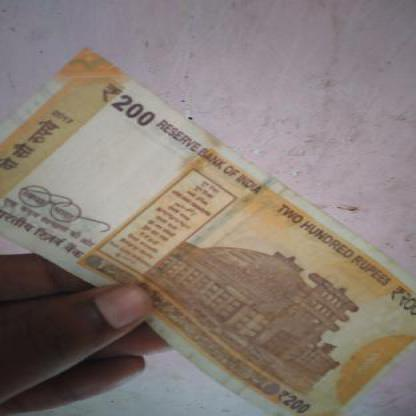New200Back: (0, 49, 415, 416)
